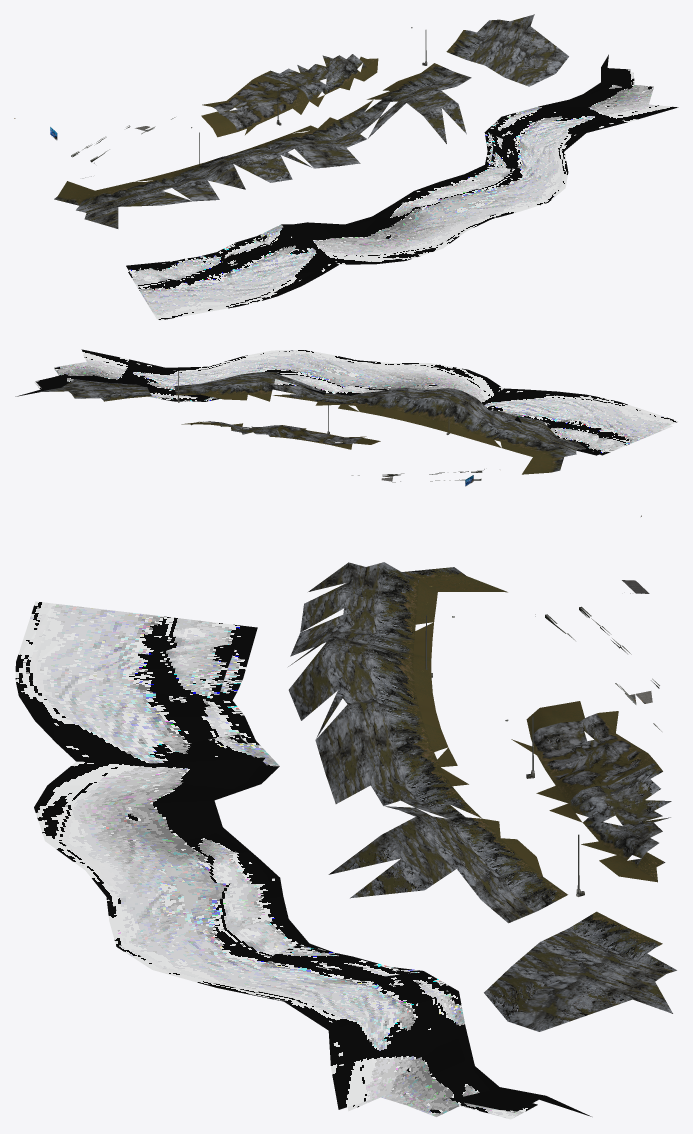
File: world_camden_15_1.gltf
3 views of the same model, one above another, from view 1: azimuth 30°, elevation 25°; view 2: azimuth 150°, elevation 25°; view 3: azimuth 270°, elevation 25° (orthographic). The views are drawn at different scales.
Bounding box in the file's own units: 271 × 31.99 × 148.
15 materials, 15 textured.
